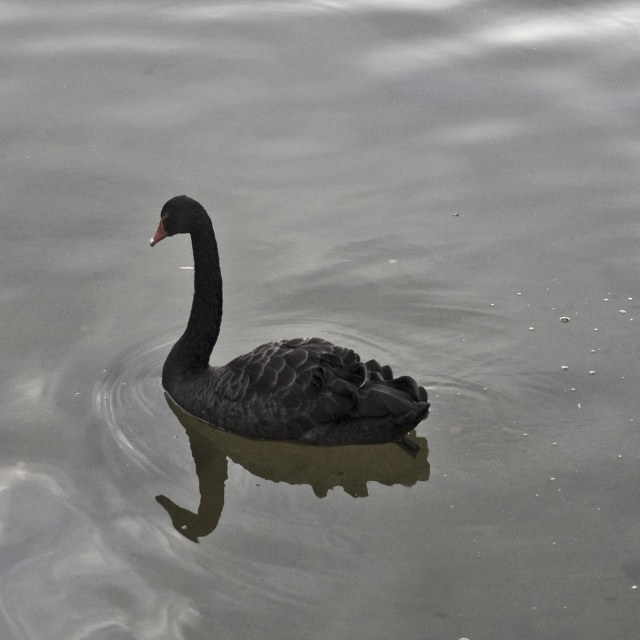Duck: (150, 195, 430, 457)
